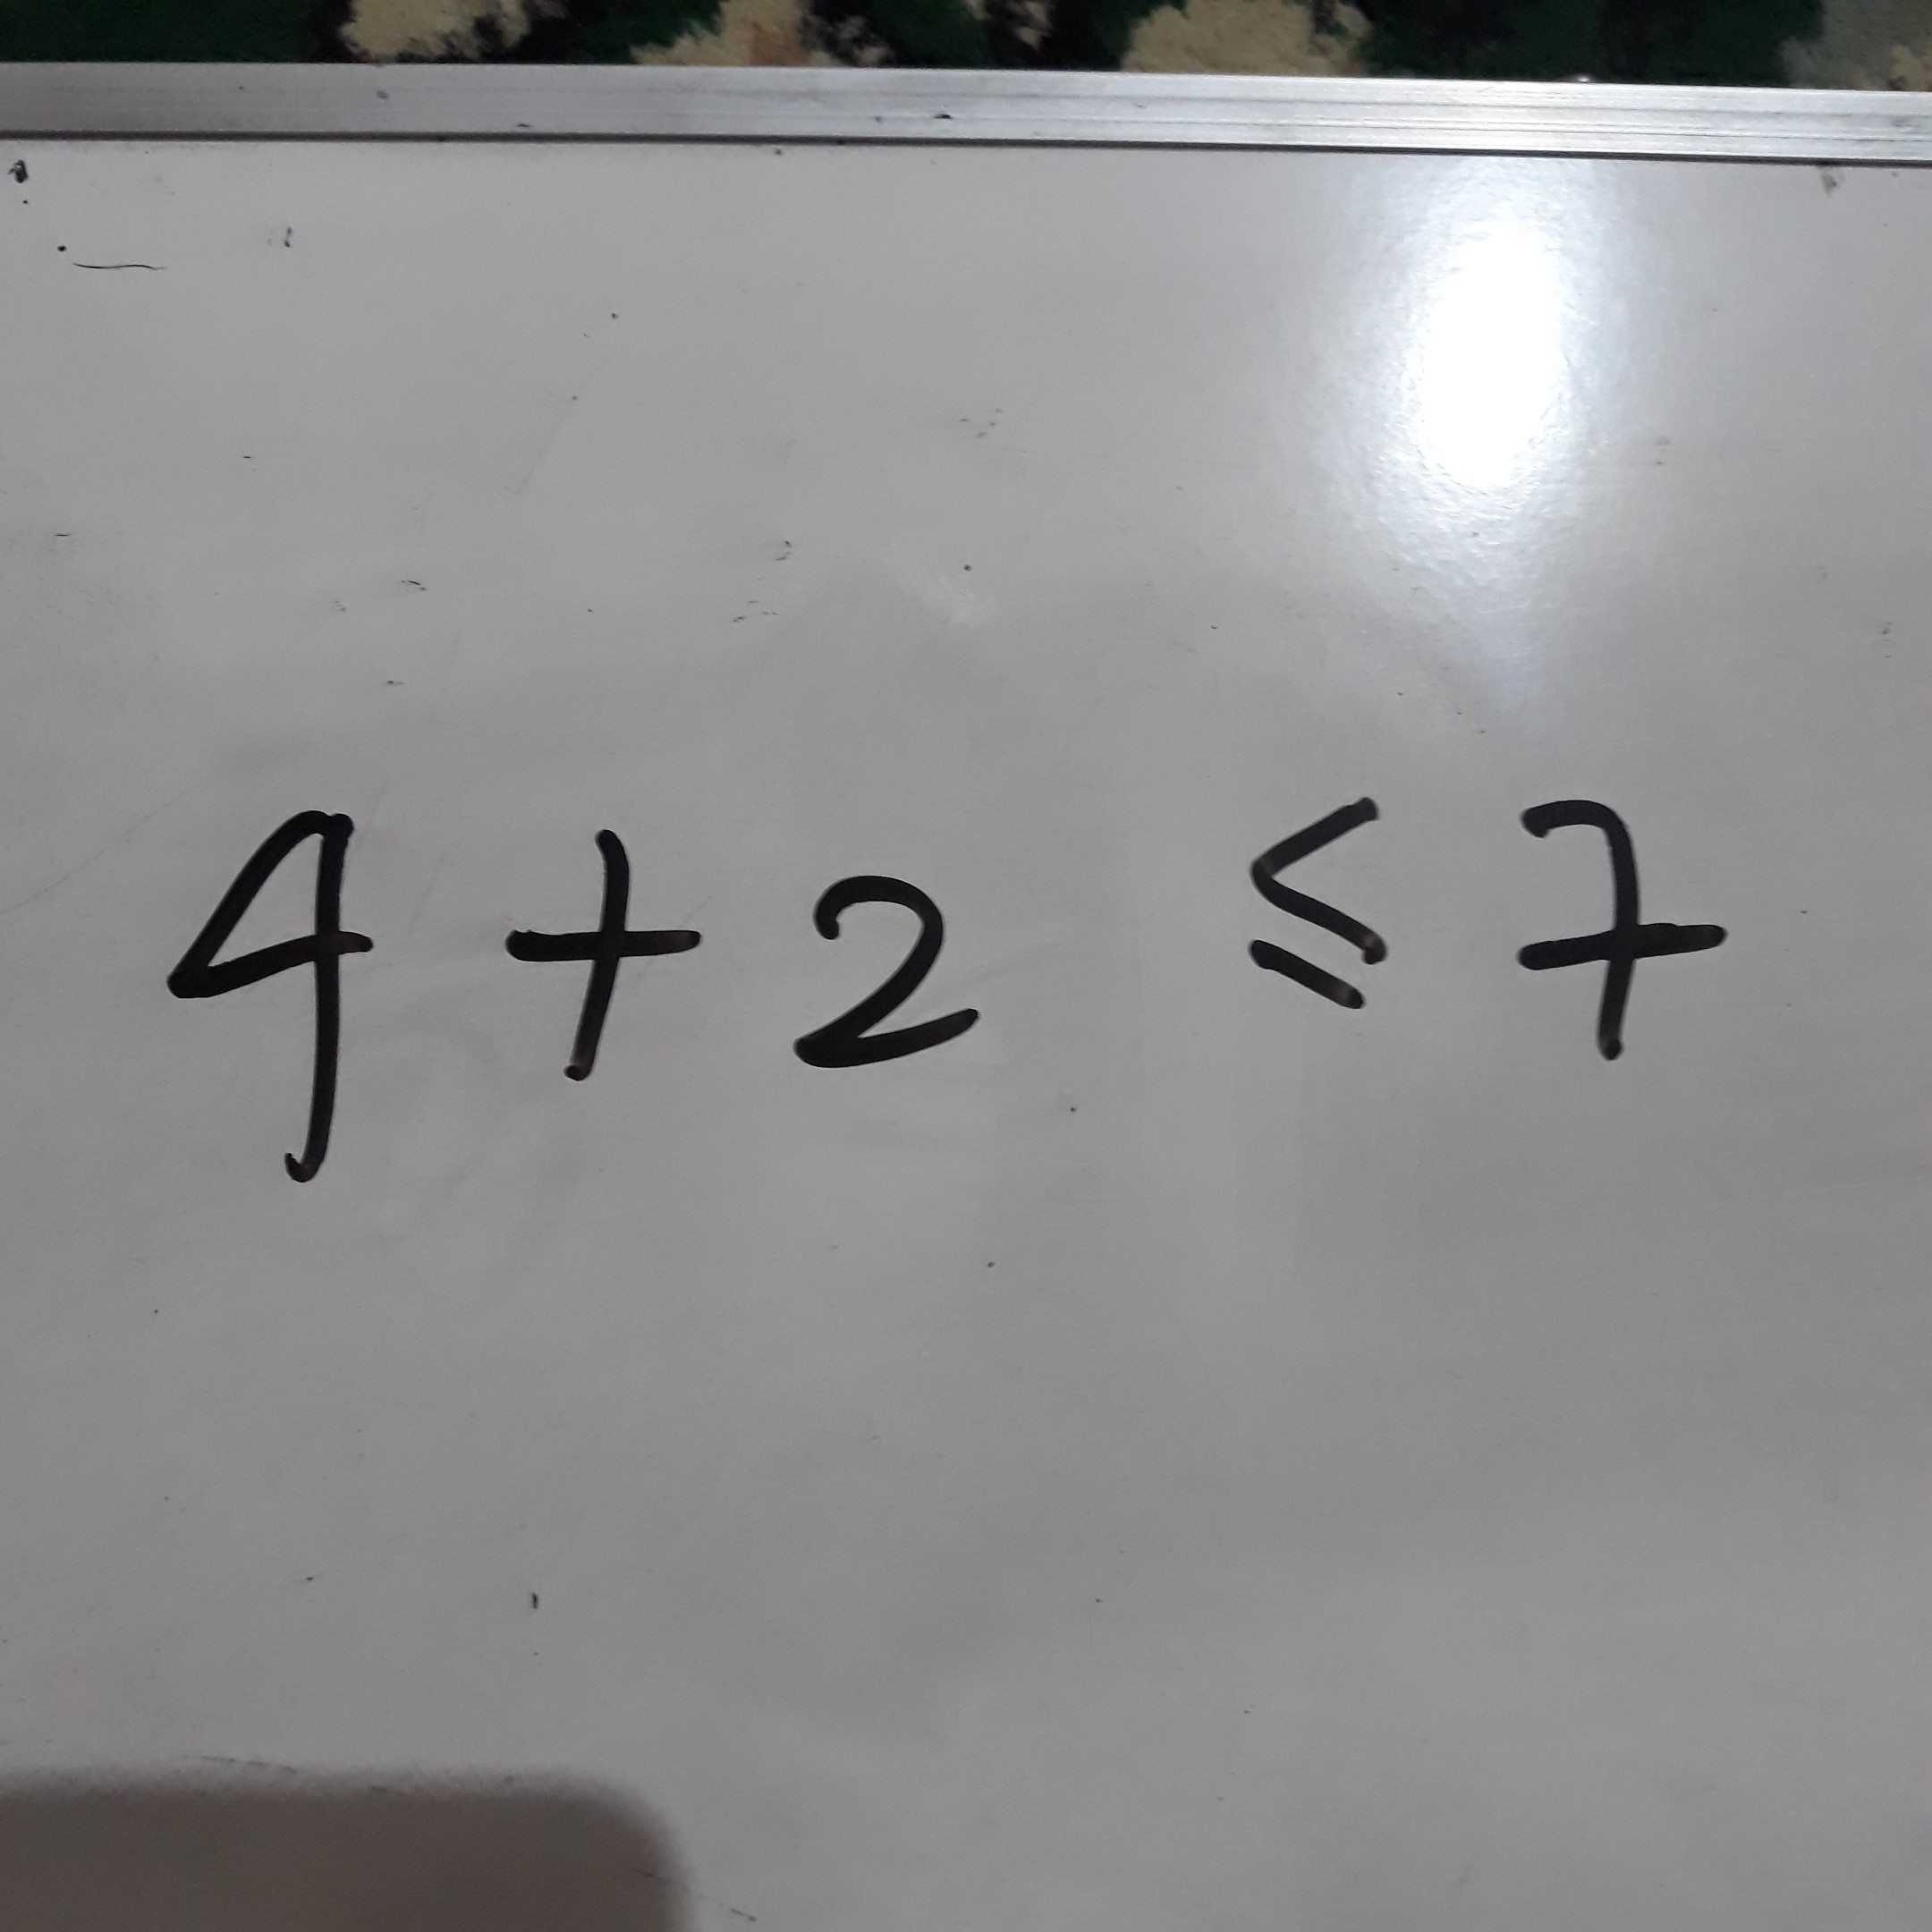lessthan-equal: (1188, 767, 1441, 1036)
num2: (768, 842, 1021, 1110)
num4: (139, 785, 416, 1216)
num7: (1490, 771, 1750, 1097)
sum: (464, 819, 717, 1088)
